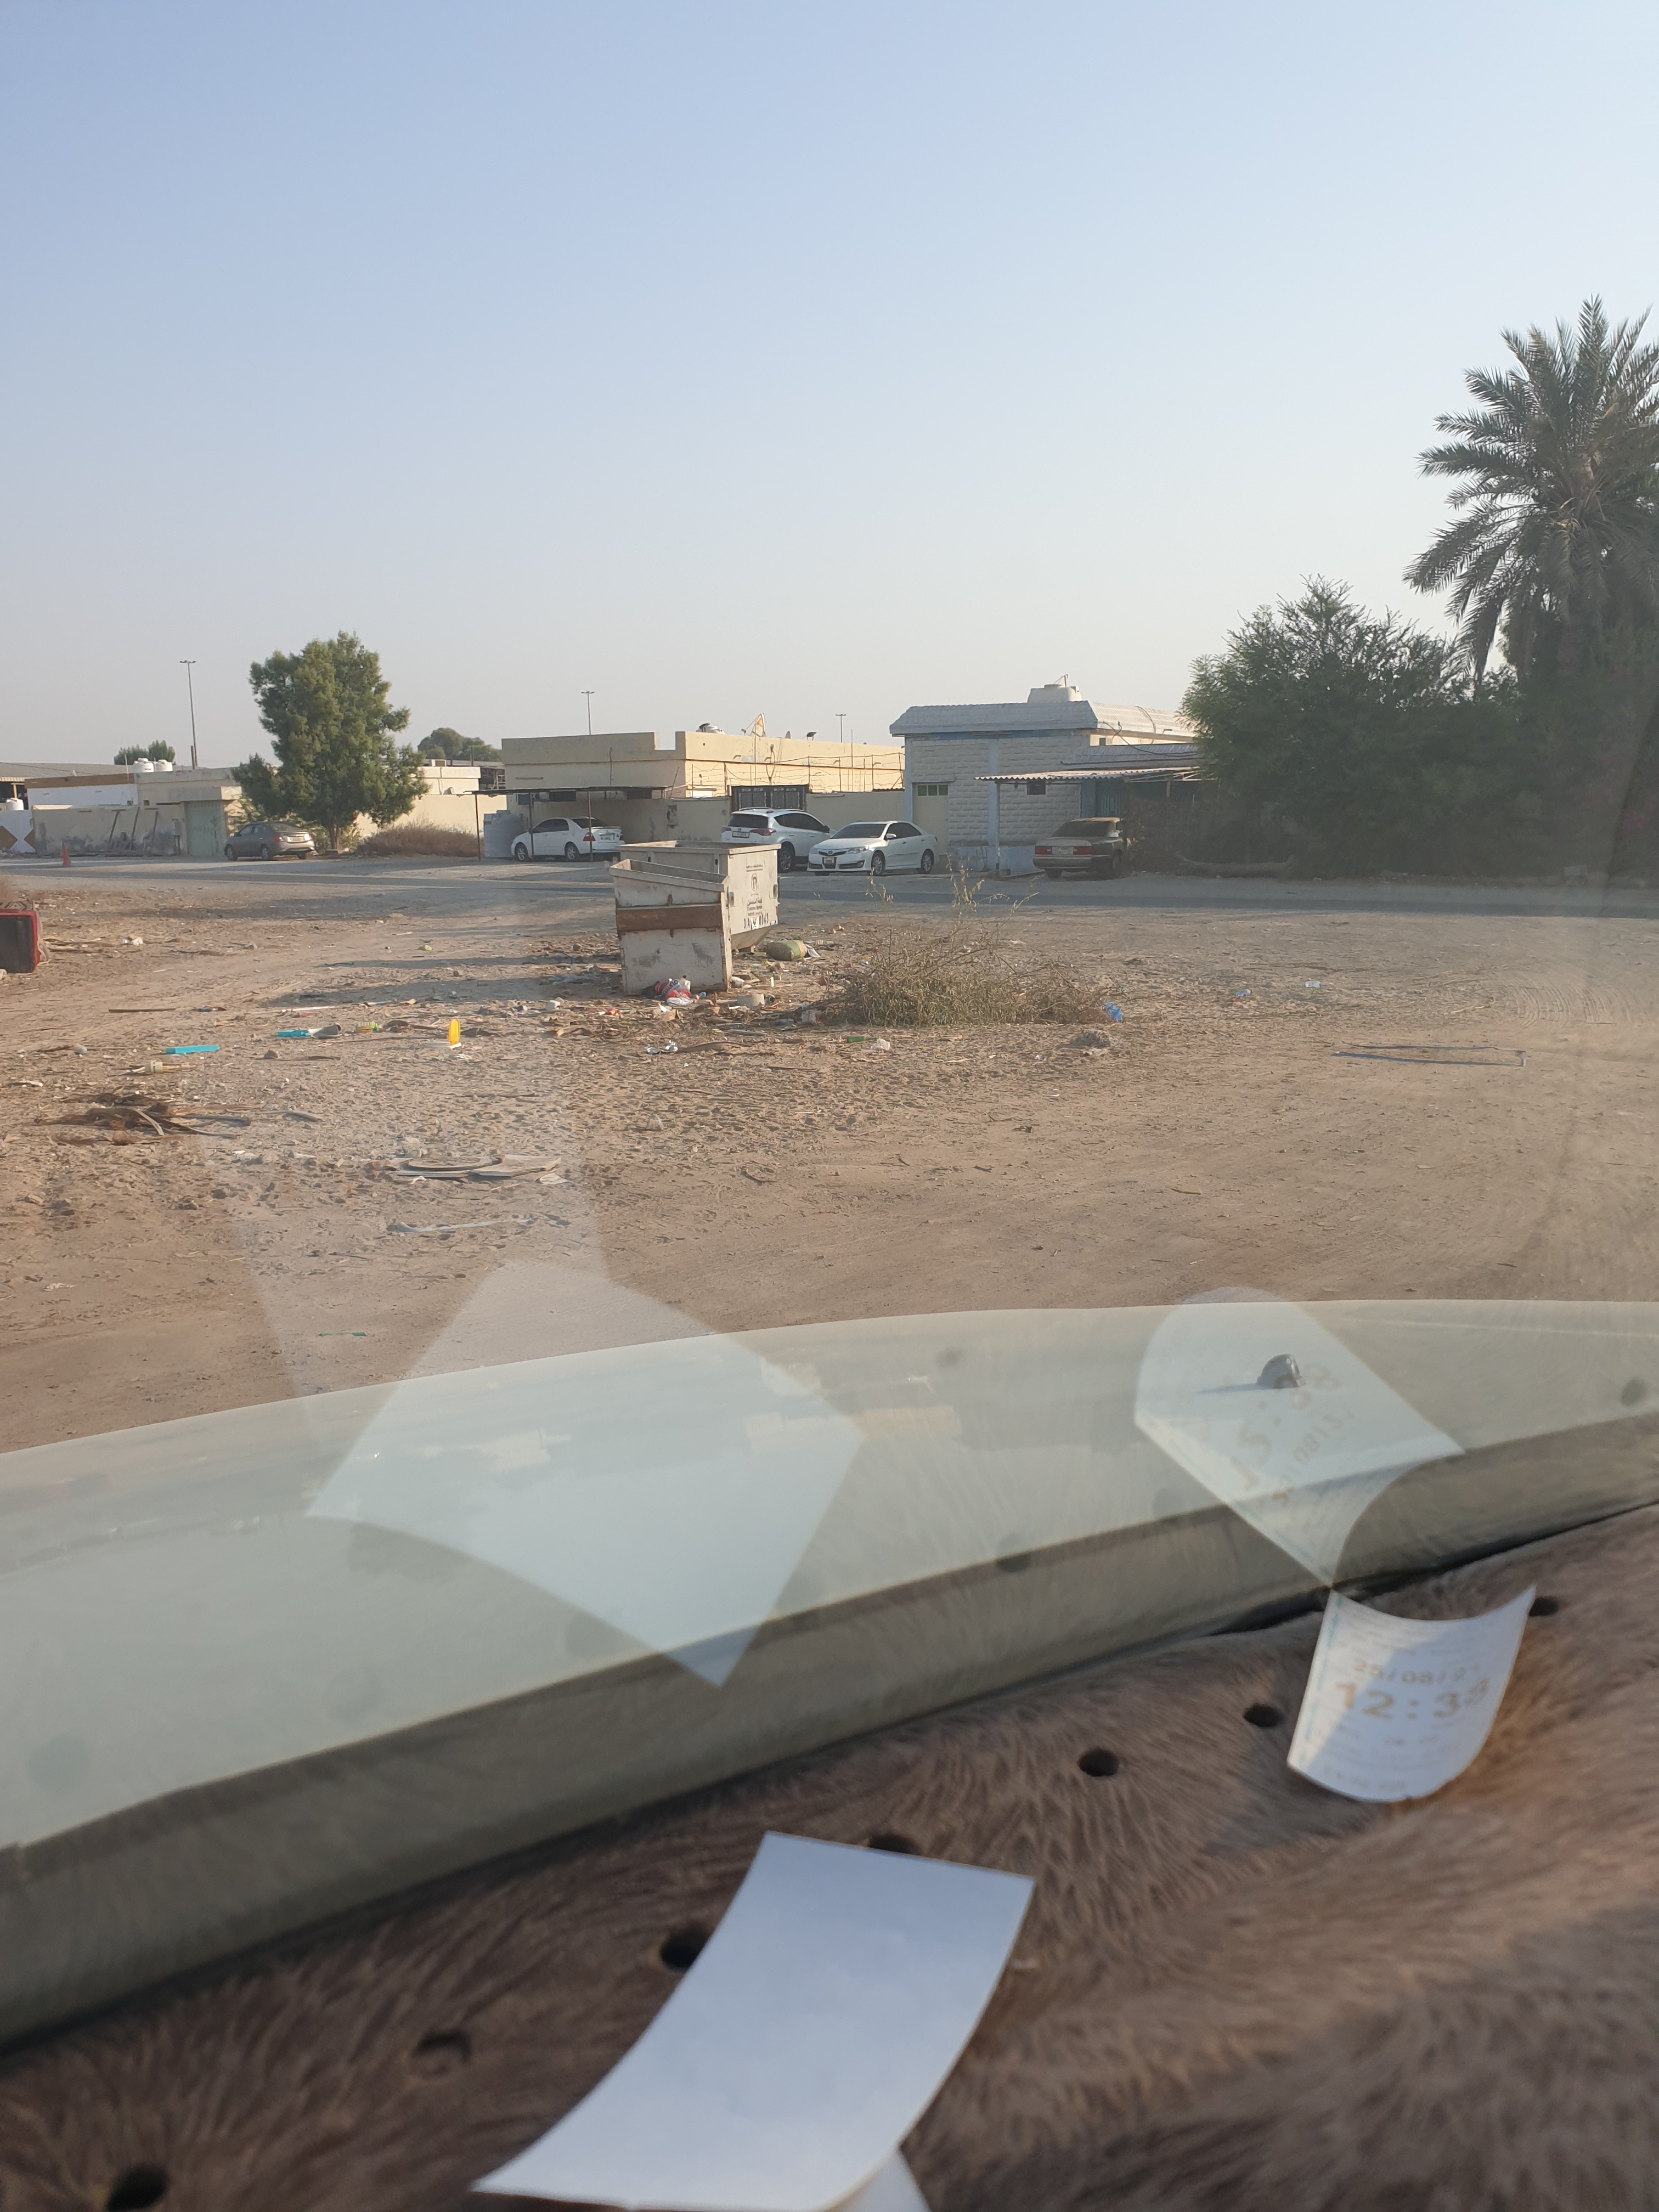fallen_trees: (810, 928, 1148, 1054), (80, 1087, 232, 1155)
